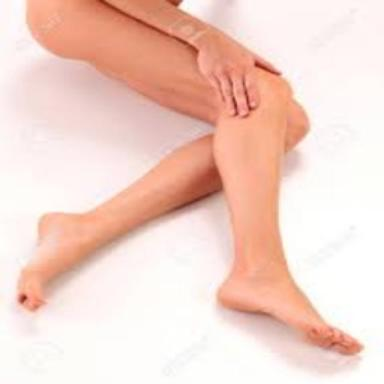normal skin: (19, 0, 360, 354)
